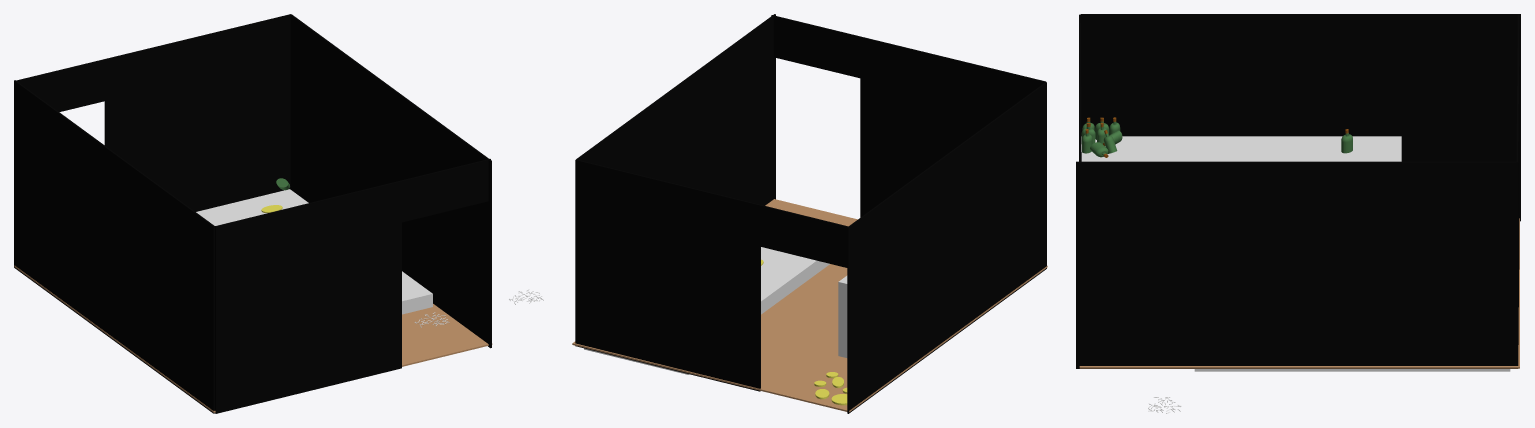
File: Ass0 mädl Zimmer.fbx
The picture shows the model from 3 angles, left to right: view 1: azimuth 30°, elevation 25°; view 2: azimuth 150°, elevation 25°; view 3: azimuth 270°, elevation 25°; orthographic projection. The views are drawn at different scales.
Visible parts, largest first — view 1: Cube.003, Cube.002, Cube.004, Cube, Cube.001, Cube.005; view 2: Cube.004, Cube.002, Cube.003, Cube, Cube.001, Cube.005, Cube.006; view 3: Cube, Cube.002, Cube.006, Cube.001, Cube.004, Cube.005, Cube.003.
Part boxes in pixels (<box>): Cube.003: <box>215,159,490,413</box>; Cube.002: <box>14,80,214,413</box>; Cube.004: <box>15,14,291,211</box>; Cube: <box>290,14,491,348</box>; Cube.001: <box>14,265,492,412</box>; Cube.005: <box>196,189,432,314</box>; Cube.004: <box>575,159,848,391</box>; Cube.002: <box>847,82,1046,413</box>; Cube.003: <box>771,15,1045,217</box>; Cube: <box>576,14,775,205</box>; Cube.001: <box>572,199,1047,412</box>; Cube.005: <box>584,247,829,374</box>; Cube.006: <box>838,275,847,357</box>; Cube: <box>1076,161,1516,368</box>; Cube.002: <box>1080,14,1520,221</box>; Cube.006: <box>1081,136,1401,161</box>; Cube.001: <box>1079,218,1519,368</box>; Cube.004: <box>1516,14,1519,368</box>; Cube.005: <box>1194,369,1510,371</box>; Cube.003: <box>1079,14,1081,208</box>.
Bounding box in the file's own units: 3681 × 1846 × 3514.
